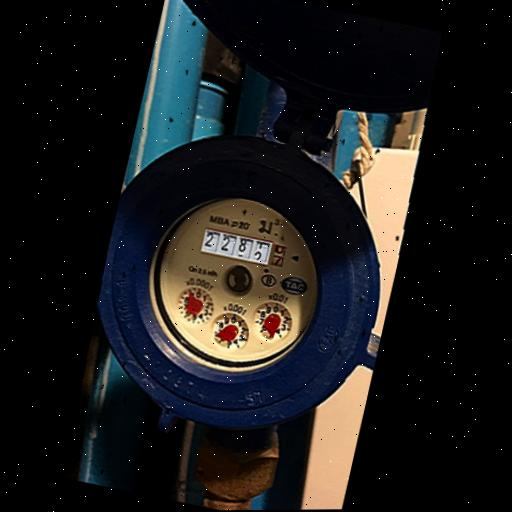1: (252, 240, 268, 261)
2: (202, 231, 219, 252), (219, 234, 235, 254)
6: (270, 244, 285, 267)
8: (236, 237, 252, 257)
border_water_meter_number: (199, 227, 288, 269)
